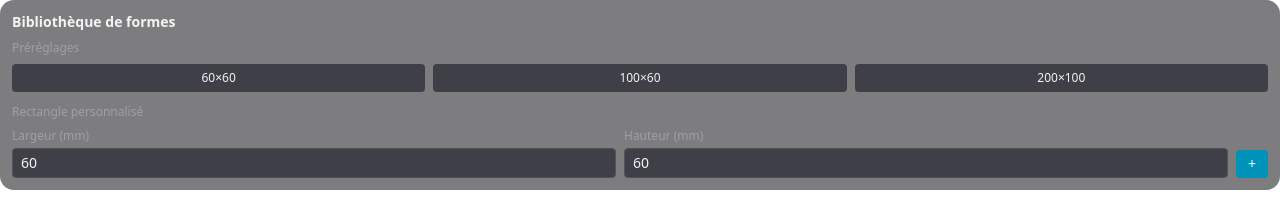
Scenario: ShapeLibrary - UI Component › Insert button state › disables insert button when width is less than 5
Replace the text in the field with test id "custom-width" with "3". click: [314, 163]
box: [12,148,616,178]
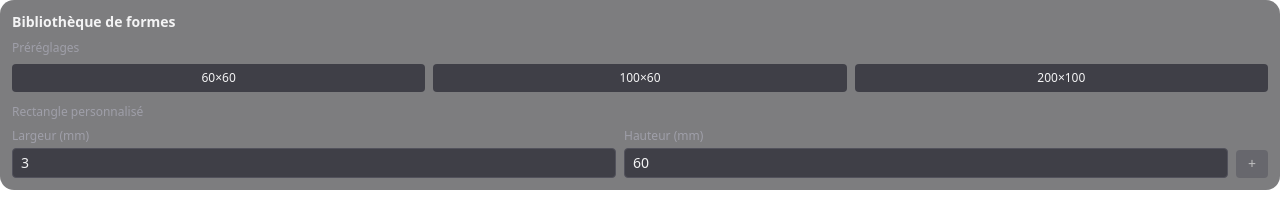
Result: the button with test id "custom-insert" is disabled at [1236,150,1268,178]
